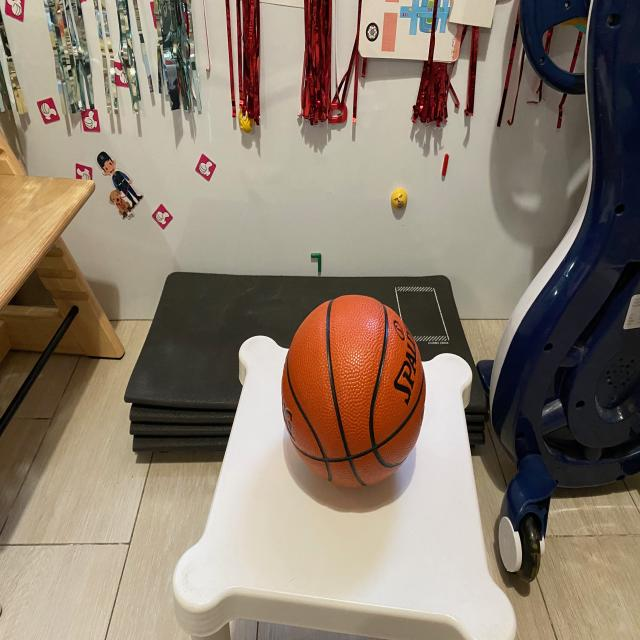Ball: (269, 276, 440, 508)
